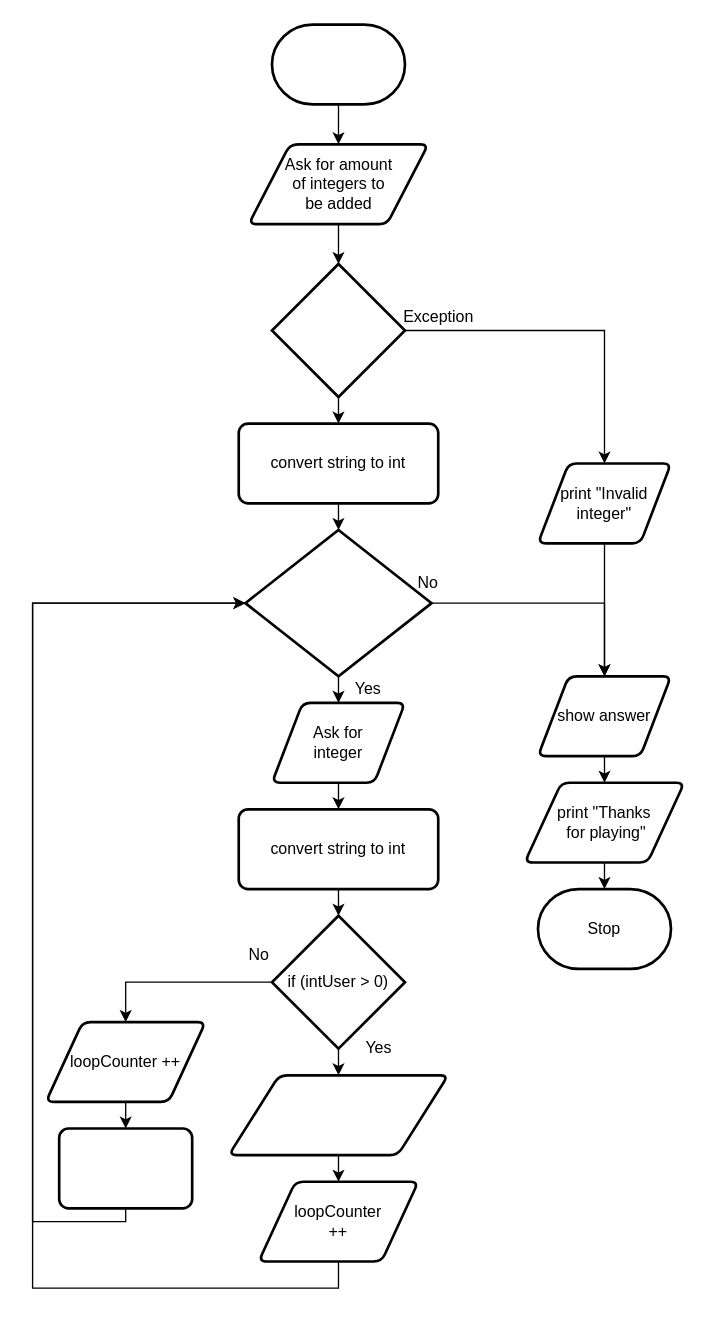
The diagram is 709 pixels wide and 1322 high, and some of its shapes have lost their labels. Each missing label, with the box of its shape:
answer = answer + intUser: (227, 1073, 449, 1156)
continue: (57, 1127, 193, 1209)
Start: (270, 23, 406, 105)
try: (270, 262, 406, 398)
while (loopCounter < intLoops): (243, 528, 432, 677)
